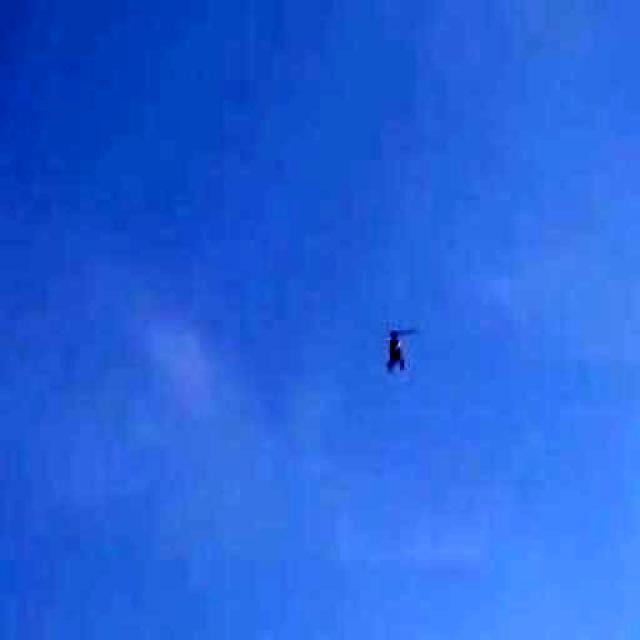drone: (338, 251, 479, 435)
